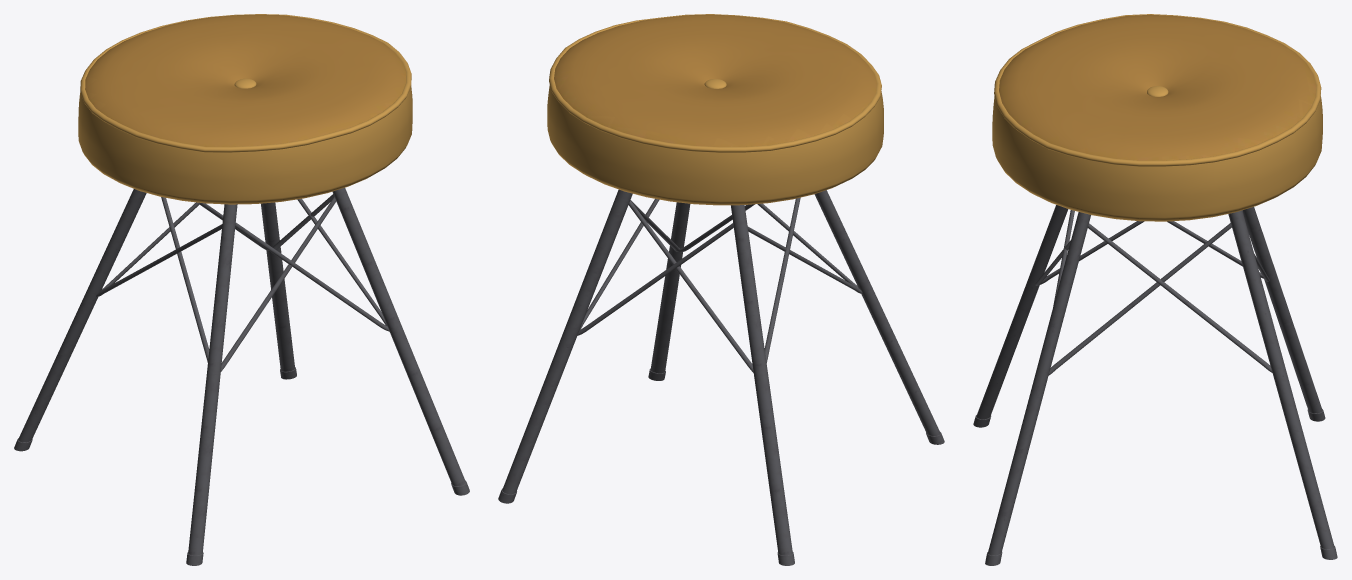
Rendered from abo-B07B8445B5.glb.
3 renders of one model, left to right at view 1: azimuth 30°, elevation 25°; view 2: azimuth 150°, elevation 25°; view 3: azimuth 270°, elevation 25°, orthographic. The views are drawn at different scales.
Bounding box in the file's own units: 0.472 × 0.595 × 0.472.
1 material, 1 textured.
